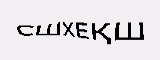Е: (77, 17, 89, 42)
С: (14, 19, 35, 37)
Х: (61, 19, 75, 39)
Ш: (114, 17, 144, 42), (35, 20, 61, 37)
Қ: (90, 19, 112, 45)
